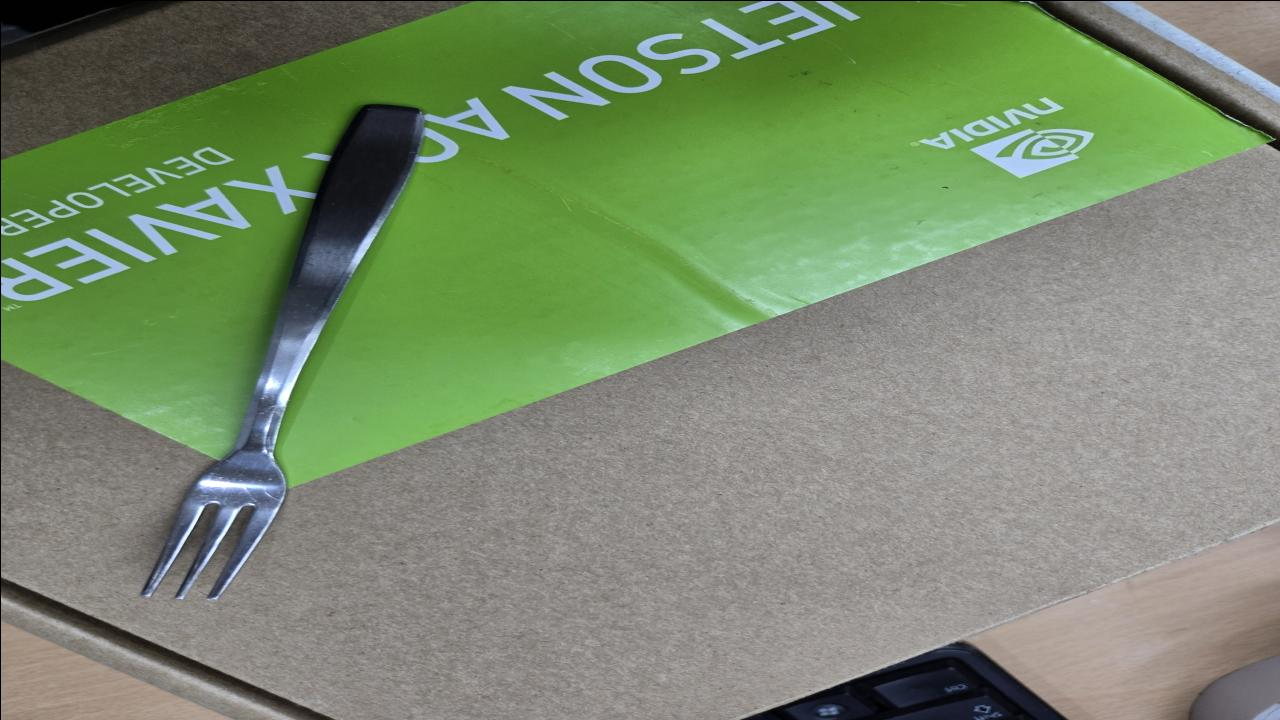fork: (131, 102, 424, 600)
